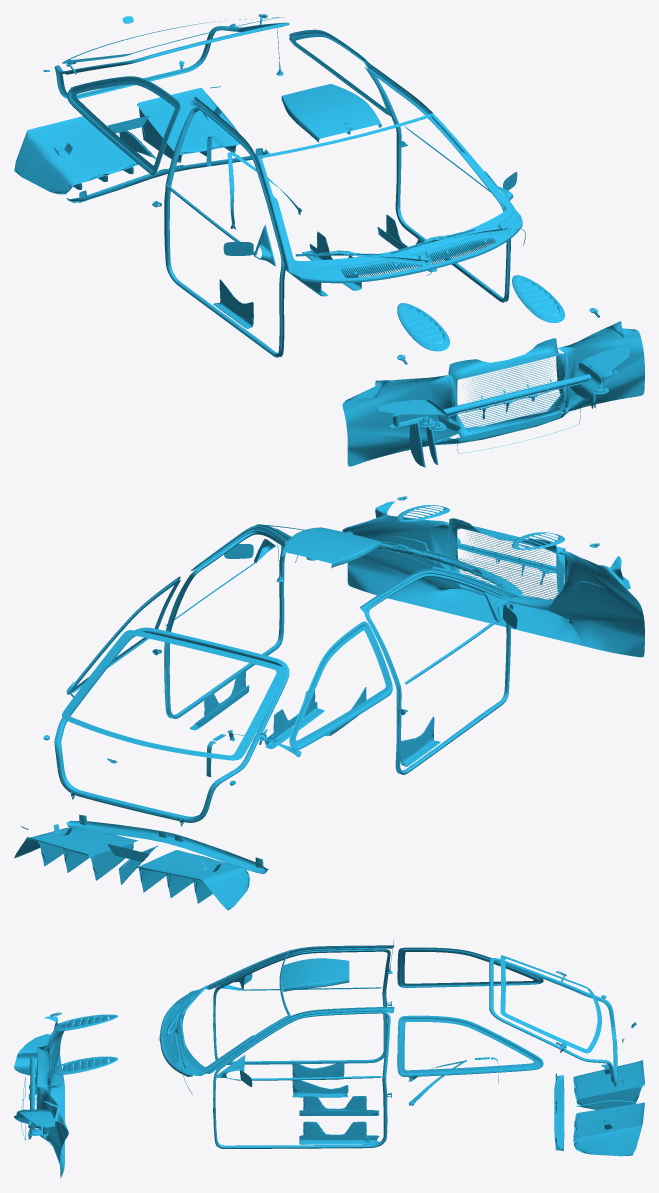
File: Coloured_Geo_lodA.glb
3 renders of one model, top to bottom at view 1: azimuth 30°, elevation 25°; view 2: azimuth 150°, elevation 25°; view 3: azimuth 270°, elevation 25°, orthographic. The views are drawn at different scales.
Visible parts, largest first — view 1: Coloured_Geo_lodA; view 2: Coloured_Geo_lodA; view 3: Coloured_Geo_lodA.
Boxes of the visible parts, bbox=[...] form: Coloured_Geo_lodA: bbox=[14, 14, 644, 467]; Coloured_Geo_lodA: bbox=[14, 496, 644, 910]; Coloured_Geo_lodA: bbox=[14, 939, 644, 1178].
Bounding box in the file's own units: 1.69 × 1.32 × 4.07.
